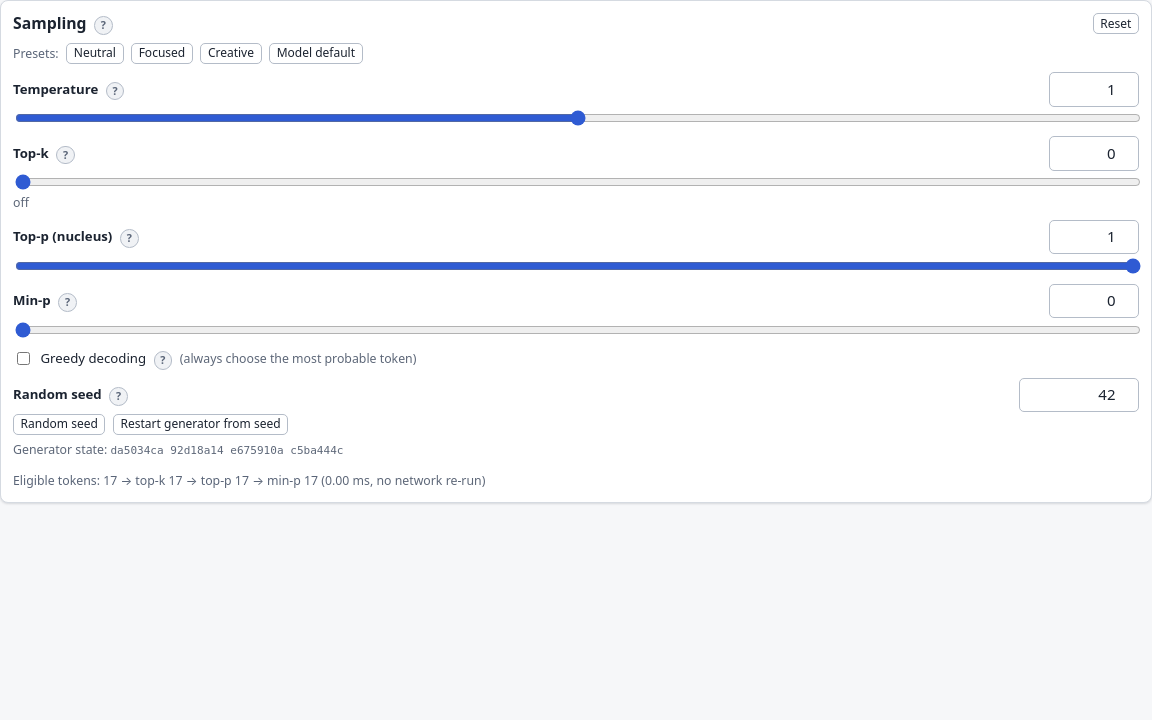
ProbabilityWorkspace › reports invalid sampling settings
Replace the text in the number field with test id "topp-input" with "3" at (1094, 237), box [1049,220,1139,254]
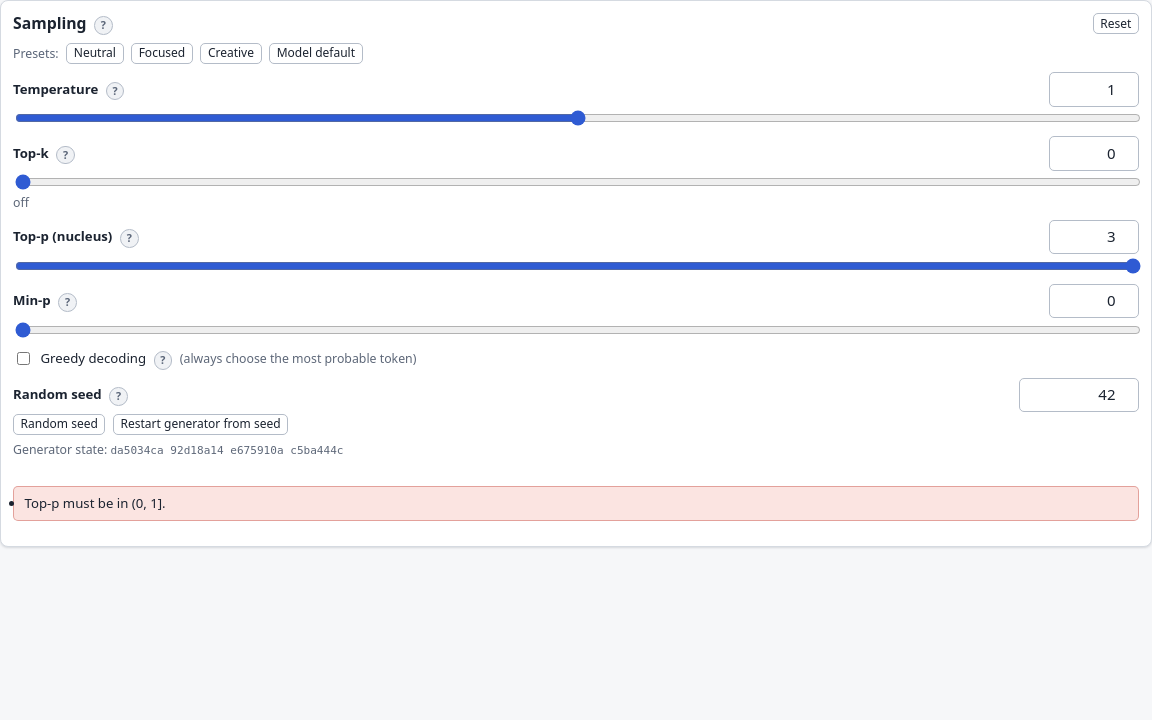
Now the text "Top-p must be in (0, 1]" is shown, box [24,494,166,512]
